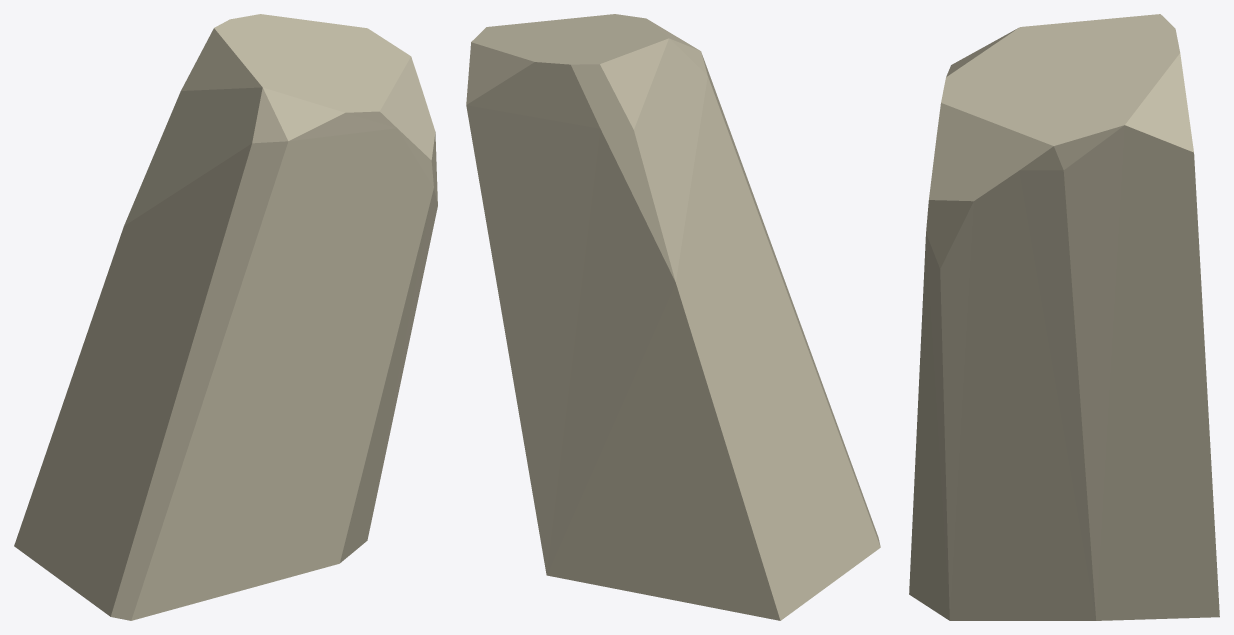
The model's file is Rock_Square_l_09.fbx.
The picture shows the model from 3 angles, left to right: view 1: azimuth 30°, elevation 25°; view 2: azimuth 150°, elevation 25°; view 3: azimuth 270°, elevation 25°; orthographic projection. The views are drawn at different scales.
Visible parts, largest first — view 1: Rock_Square_l_09; view 2: Rock_Square_l_09; view 3: Rock_Square_l_09.
Part boxes in pixels (bbox=[...]): Rock_Square_l_09: bbox=[14, 14, 437, 620]; Rock_Square_l_09: bbox=[466, 14, 880, 620]; Rock_Square_l_09: bbox=[909, 14, 1219, 620].
Bounding box in the file's own units: 2.79 × 3.78 × 1.81.
